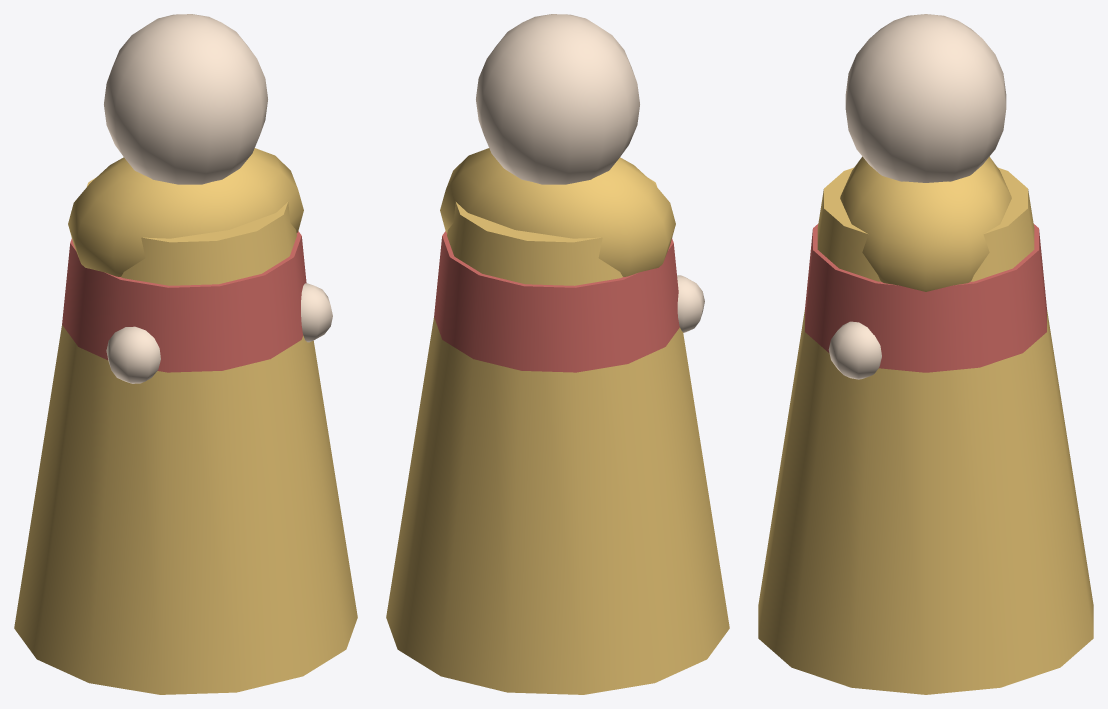
File: monk_pilgrim.glb
3 renders of one model, left to right at view 1: azimuth 30°, elevation 25°; view 2: azimuth 150°, elevation 25°; view 3: azimuth 270°, elevation 25°, orthographic.
Visible parts, largest first — view 1: MonasticRobe, PilgrimHeadAndHands, KasayaSash; view 2: MonasticRobe, PilgrimHeadAndHands, KasayaSash; view 3: MonasticRobe, PilgrimHeadAndHands, KasayaSash.
Boxes of the visible parts, x1,y1,x2,y2 form: MonasticRobe: (14, 148, 357, 694); PilgrimHeadAndHands: (104, 14, 332, 383); KasayaSash: (62, 231, 306, 372); MonasticRobe: (386, 148, 729, 694); PilgrimHeadAndHands: (476, 14, 704, 332); KasayaSash: (434, 231, 679, 372); MonasticRobe: (758, 156, 1093, 694); PilgrimHeadAndHands: (828, 14, 1006, 379); KasayaSash: (805, 224, 1046, 372).
Size of the model in its own units: 0.92 by 1.77 by 0.8969.
